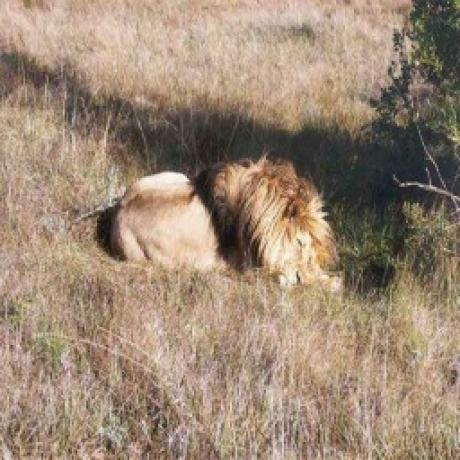Lion: (103, 152, 341, 290)
